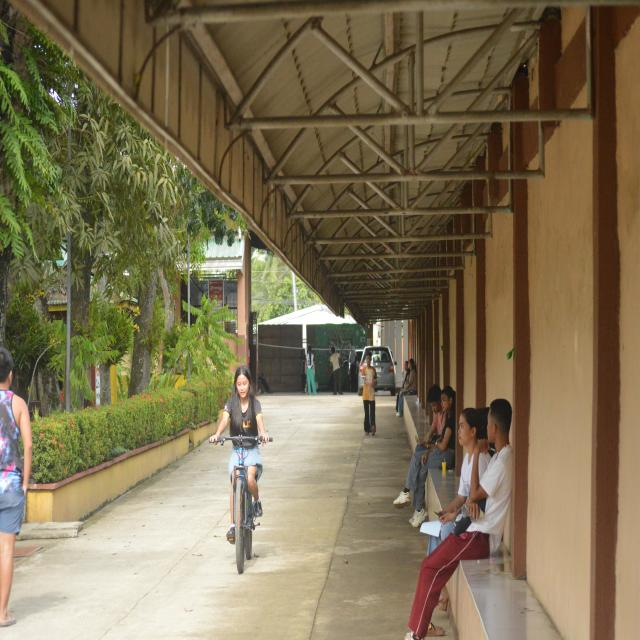person: (406, 399, 512, 639), (0, 348, 32, 626), (394, 385, 445, 527), (210, 365, 267, 443), (397, 359, 417, 416), (363, 354, 377, 435), (330, 347, 342, 394), (306, 346, 317, 395), (349, 346, 358, 392)
